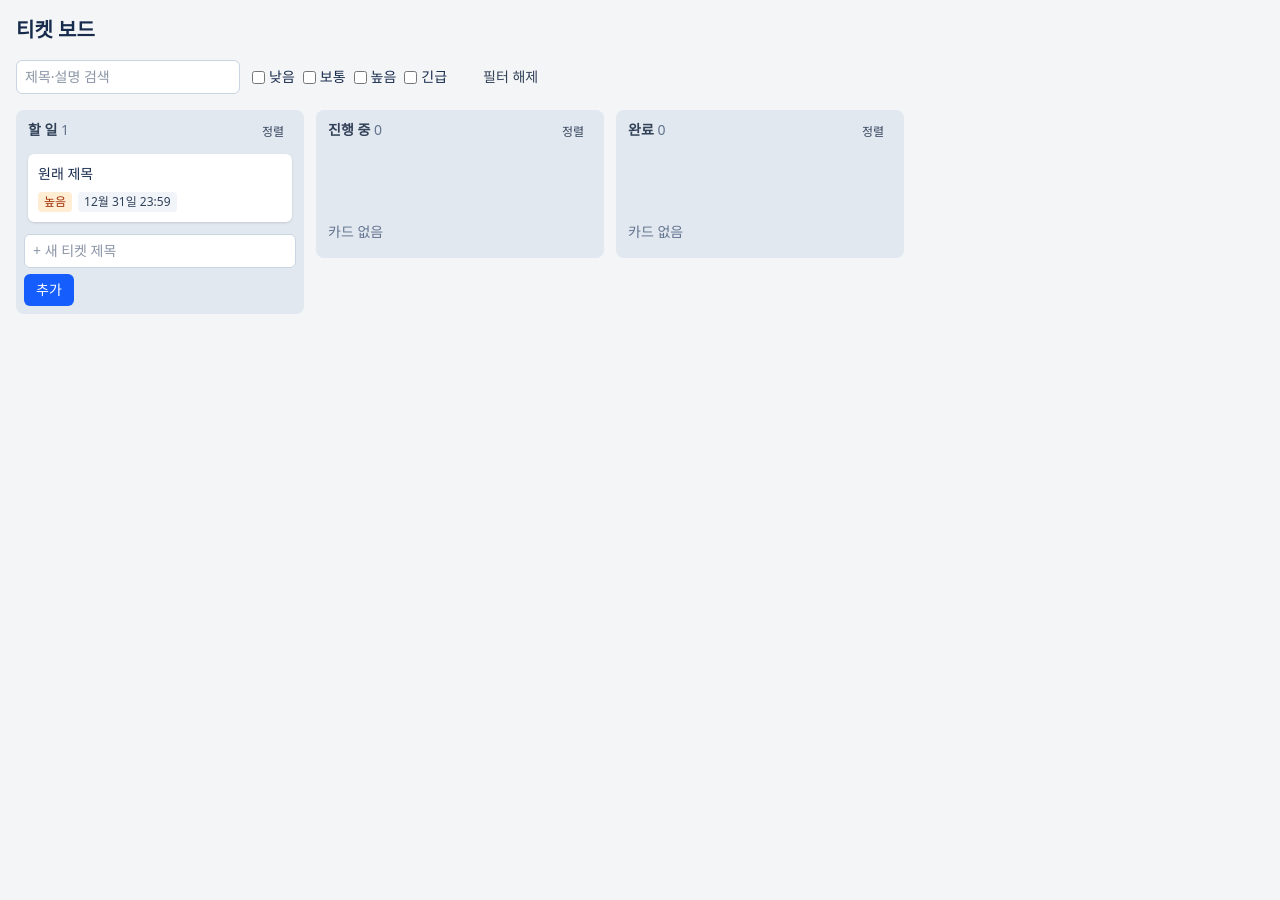
Test: 티켓 상세 모달 (UI-C08) › TC-UI-014·042: 저장을 누르기 전에는 요청하지 않고, 누르면 바뀐 필드만 보내 화면에 반영한다
Click the text "원래 제목" at (66, 174), box [38, 164, 93, 184]
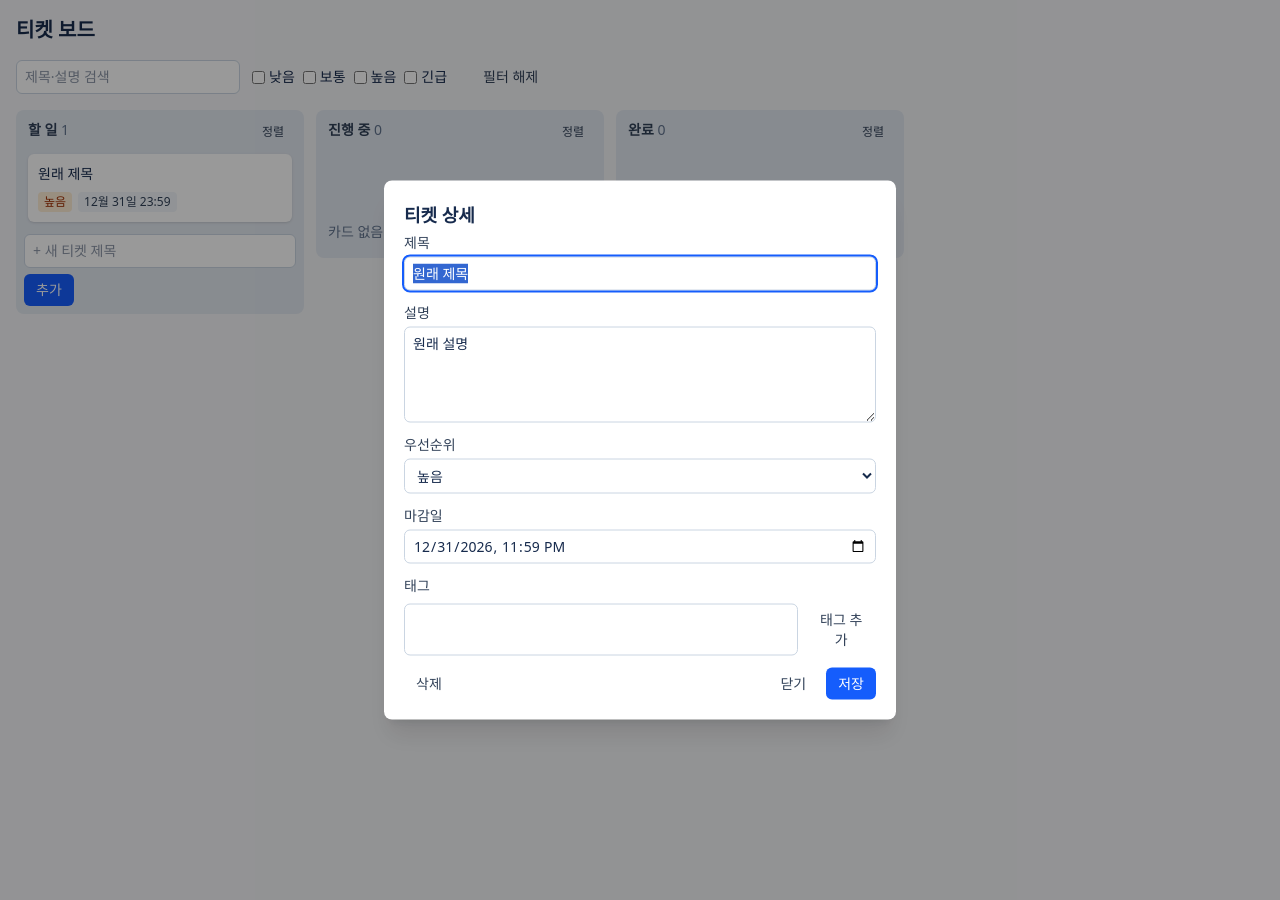
Replace the text in the field labelled "제목" with "새 제목" at (640, 274), box [404, 256, 876, 290]
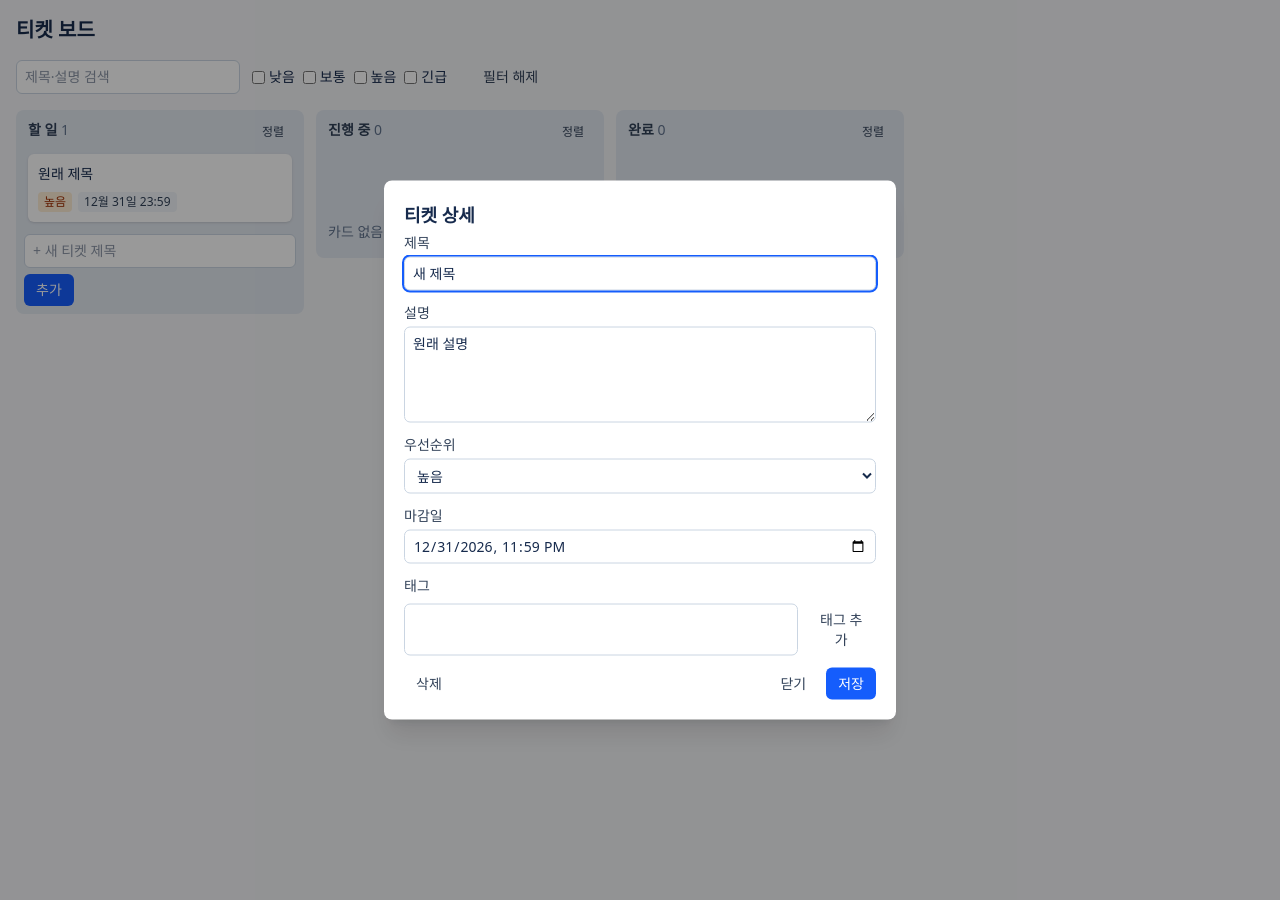
Select "낮음" in the dropdown labelled "우선순위" at (640, 476), box [404, 458, 876, 494]
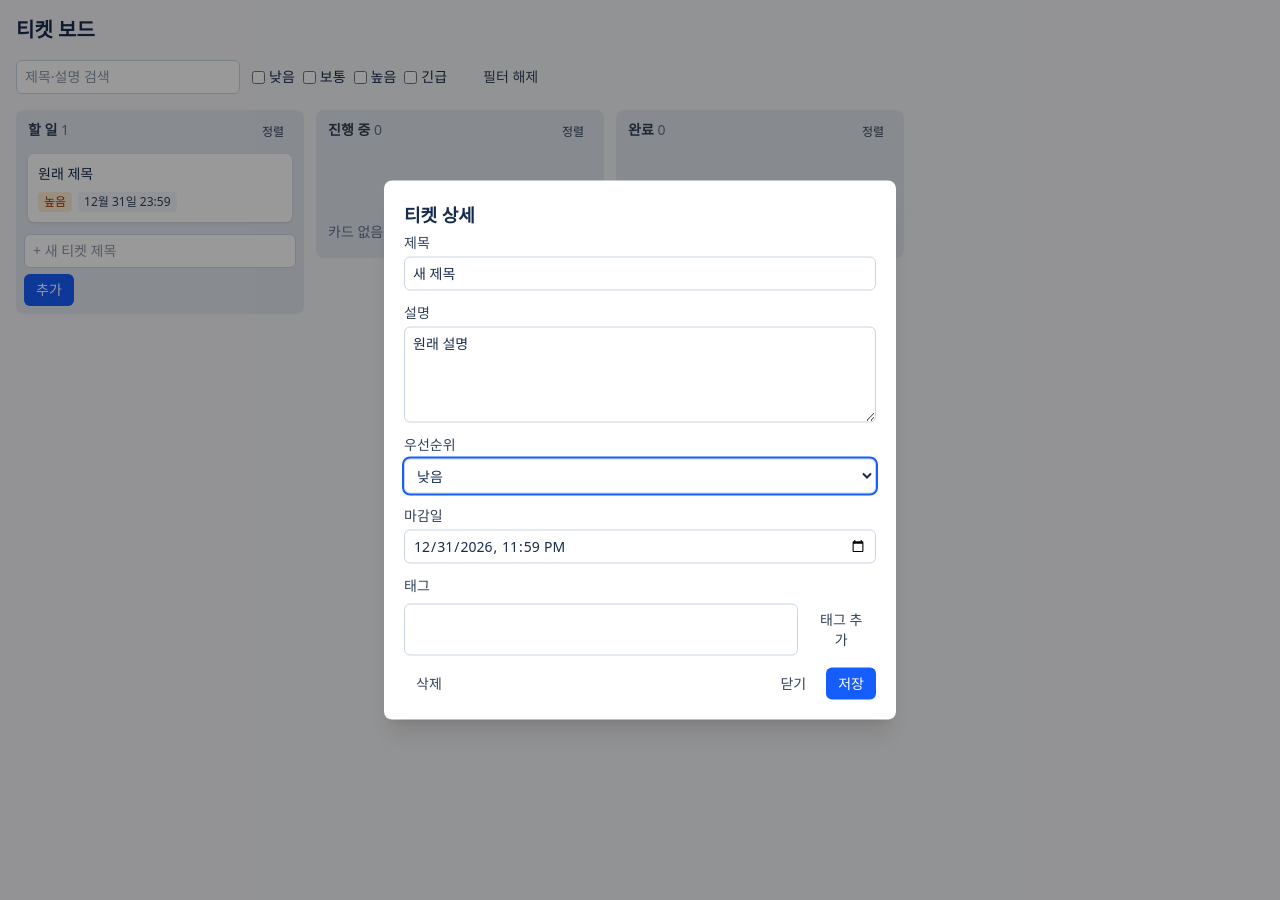
Click the button "저장" at (851, 684), box [826, 668, 876, 700]
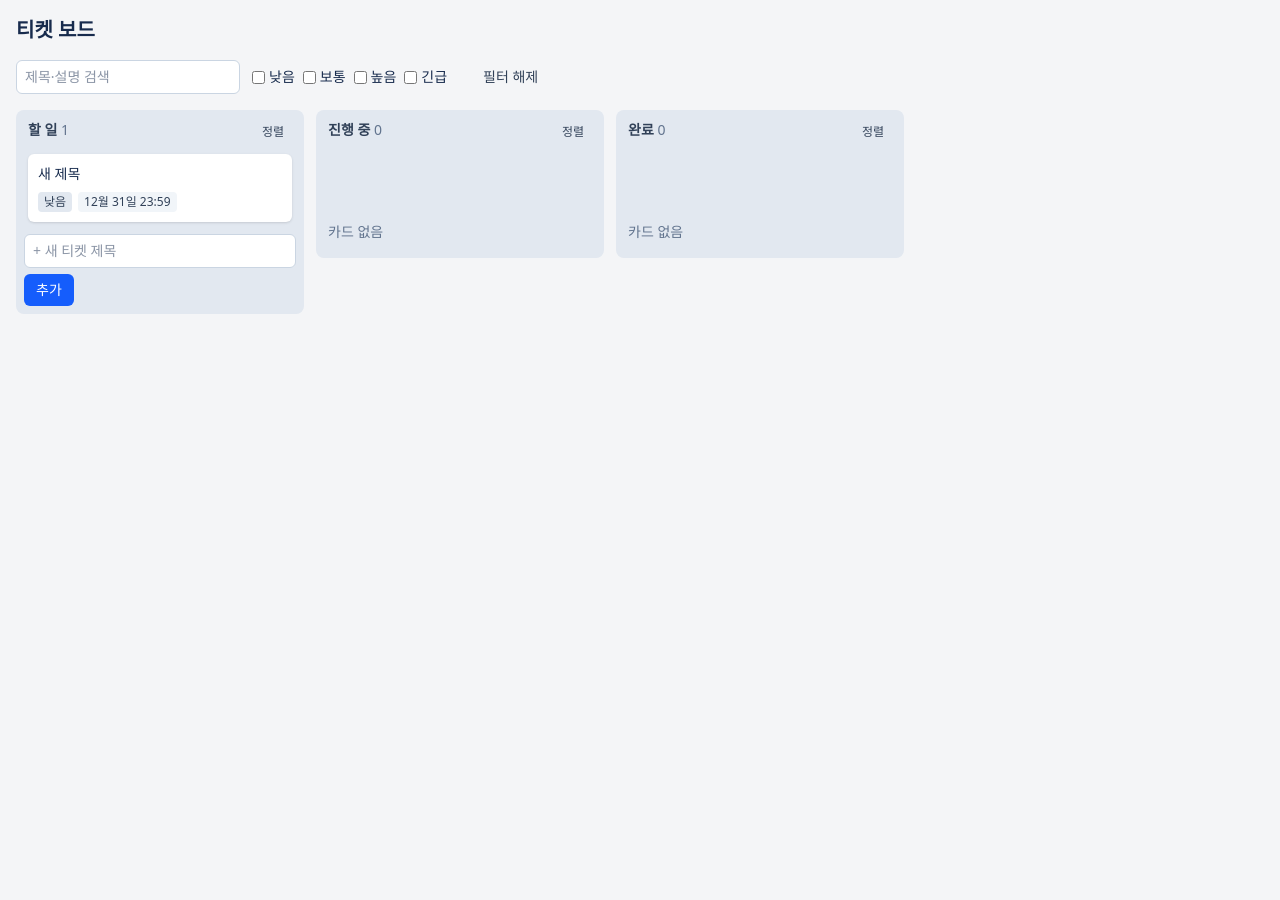
Check: the dialog is gone
Check: the text "새 제목" is shown, box [38, 164, 80, 184]
